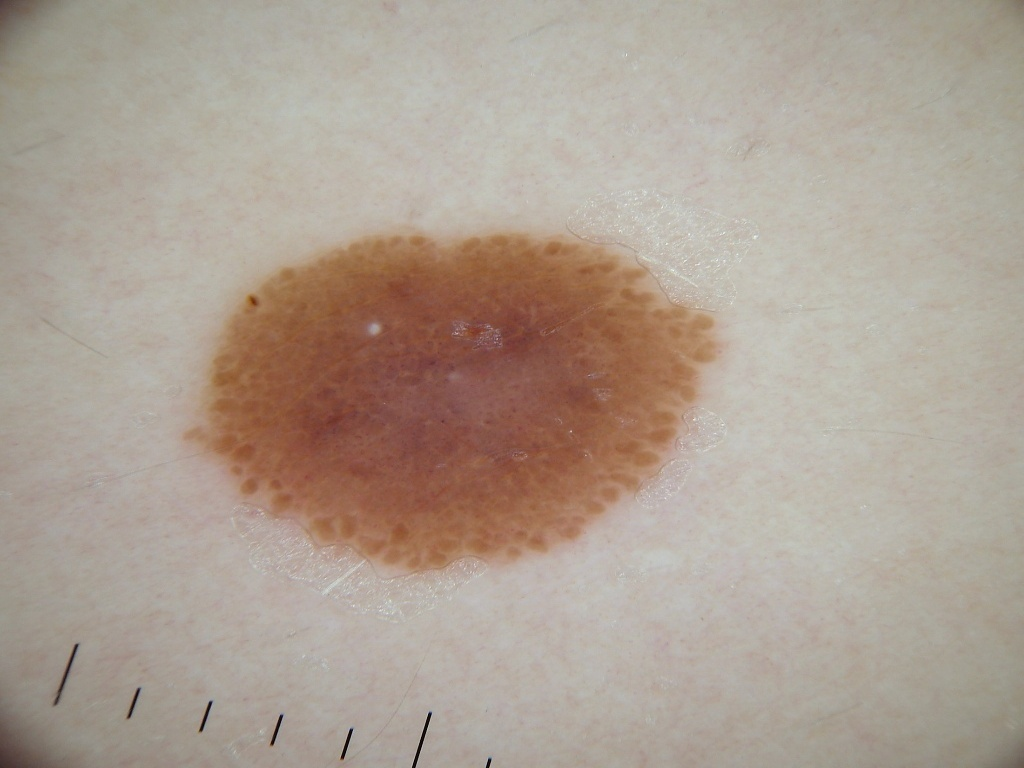Detected Lesion: (176, 224, 743, 583)
